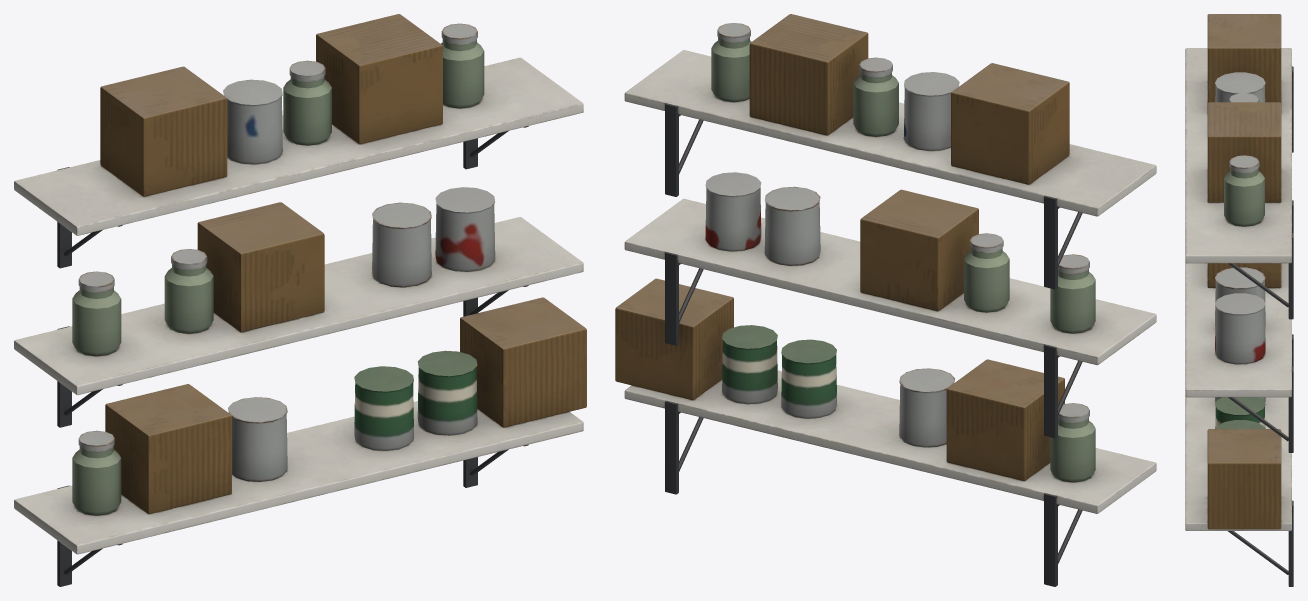
The model's file is wall_shelves.glb.
The picture shows the model from 3 angles, left to right: view 1: azimuth 30°, elevation 25°; view 2: azimuth 150°, elevation 25°; view 3: azimuth 270°, elevation 25°; orthographic projection. The views are drawn at different scales.
Visible parts, largest first — view 1: wall_shelves; view 2: wall_shelves; view 3: wall_shelves.
Boxes of the visible parts, x1,y1,x2,y2 form: wall_shelves: (14, 14, 586, 586); wall_shelves: (615, 14, 1156, 586); wall_shelves: (1185, 14, 1293, 586).
Size of the model in its own units: 1.24 by 1.12 by 0.2639.
1 material, 1 textured.
